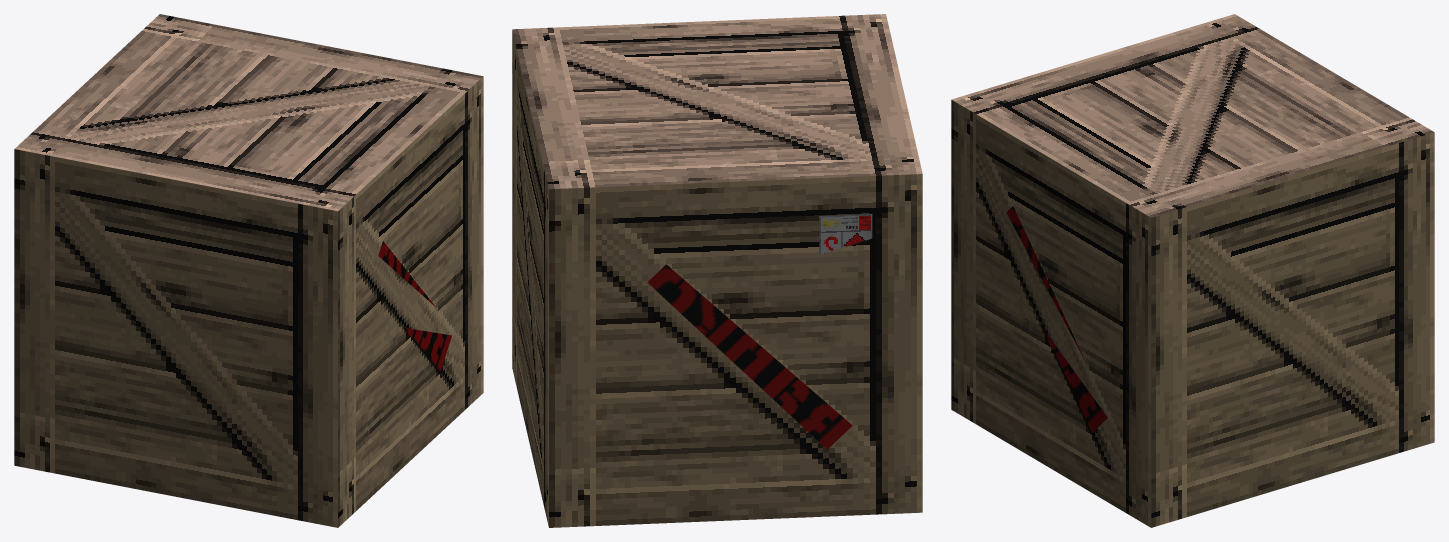
Rendered from primary_085.glb.
The picture shows the model from 3 angles, left to right: view 1: azimuth 30°, elevation 25°; view 2: azimuth 150°, elevation 25°; view 3: azimuth 270°, elevation 25°; orthographic projection. The views are drawn at different scales.
Visible parts, largest first — view 1: Object; view 2: Object; view 3: Object.
Boxes of the visible parts, bbox=[...] form: Object: bbox=[14, 14, 483, 527]; Object: bbox=[512, 14, 922, 527]; Object: bbox=[951, 14, 1434, 527].
Bounding box in the file's own units: 1.58 × 1.12 × 1.58.
7 materials, 7 textured.
